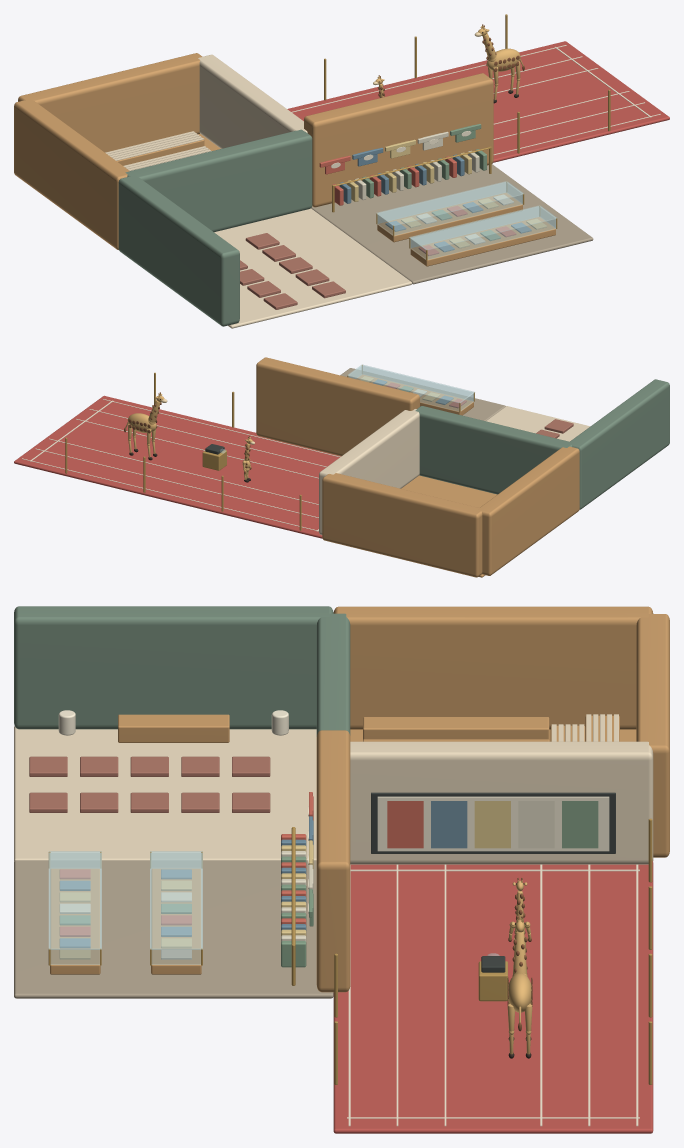
File: riraji_normal.glb
The picture shows the model from 3 angles, top to bottom: view 1: azimuth 30°, elevation 25°; view 2: azimuth 150°, elevation 25°; view 3: azimuth 270°, elevation 25°; orthographic projection. The views are drawn at different scales.
Parts seen in each view (by area): view 1: Sports_Floor, Vintage_Tshirt_Wall, Vintage_Floor, Prayer_Back_Wall, Sauna_Back_Wall, Prayer_Left_Wall, Supporters_Floor, Sauna_Left_Wall, Shared_Sauna_Sports_Wall, Showcase_Top_Glass.001, Showcase_Top_Glass, Showcase_Base_0 (+6 smaller); view 2: Sports_Floor, Sauna_Back_Wall, Vintage_Tshirt_Wall, Prayer_Back_Wall, Sauna_Left_Wall, Prayer_Left_Wall, Shared_Sauna_Sports_Wall, Showcase_Top_Glass, Sauna_Floor, Supporters_Floor, Vintage_Floor, Showcase_Side_Glass (+7 smaller); view 3: Sports_Floor, Prayer_Left_Wall, Sauna_Left_Wall, Supporters_Floor, Vintage_Floor, Shared_Sauna_Sports_Wall, Vintage_Tshirt_Wall, Sauna_Back_Wall, Showcase_Top_Glass, Showcase_Top_Glass.001, Projection_Screen, West_Bench_Tier_1 (+31 smaller).
Part boxes in pixels (x1,y1,x2,y2): Sports_Floor: (287,41,669,162); Vintage_Tshirt_Wall: (304,73,493,207); Vintage_Floor: (311,164,593,284); Prayer_Back_Wall: (125,129,312,232); Sauna_Back_Wall: (18,53,202,152); Prayer_Left_Wall: (118,175,239,326); Supporters_Floor: (214,208,412,328); Sauna_Left_Wall: (14,99,129,249); Shared_Sauna_Sports_Wall: (198,54,307,148); Showcase_Top_Glass.001: (376,181,524,226); Showcase_Top_Glass: (409,205,557,250); Showcase_Base_0: (410,217,555,266); Sports_Floor: (14,395,340,538); Sauna_Back_Wall: (322,473,482,577); Vintage_Tshirt_Wall: (256,357,419,456); Prayer_Back_Wall: (415,406,572,494); Sauna_Left_Wall: (478,446,579,575); Prayer_Left_Wall: (568,379,669,509); Shared_Sauna_Sports_Wall: (319,409,419,534); Showcase_Top_Glass: (347,364,474,403); Sauna_Floor: (401,475,497,577); Supporters_Floor: (486,406,589,441); Vintage_Floor: (340,368,505,421); Showcase_Side_Glass: (363,365,473,400); Sports_Floor: (333,861,653,1133); Prayer_Left_Wall: (14,606,333,729); Sauna_Left_Wall: (333,606,653,729); Supporters_Floor: (14,726,316,861); Vintage_Floor: (14,860,333,998); Shared_Sauna_Sports_Wall: (350,741,653,864); Vintage_Tshirt_Wall: (316,730,350,992); Sauna_Back_Wall: (636,614,669,857); Showcase_Top_Glass: (48,851,101,949); Showcase_Top_Glass.001: (150,851,202,949); Projection_Screen: (377,796,609,851); West_Bench_Tier_1: (363,717,549,739).
Bounding box in the file's own units: 36.63 × 5.62 × 24.63.
